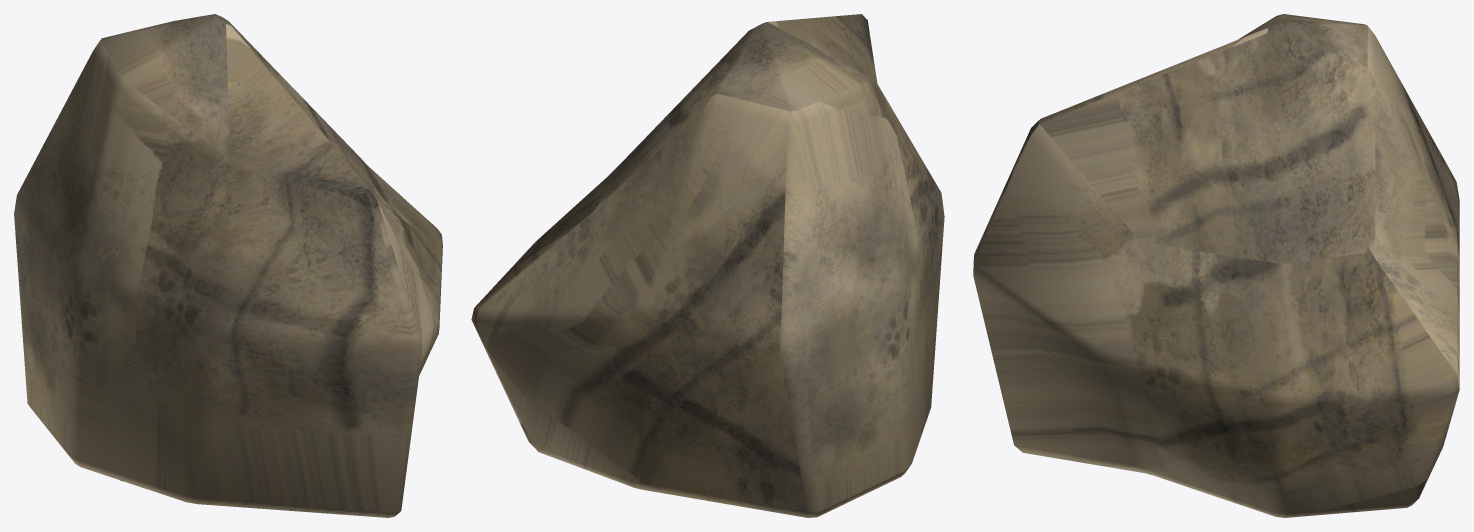
The model's file is SharpRock.gltf.
The picture shows the model from 3 angles, left to right: view 1: azimuth 30°, elevation 25°; view 2: azimuth 150°, elevation 25°; view 3: azimuth 270°, elevation 25°; orthographic projection. The views are drawn at different scales.
Visible parts, largest first — view 1: SharpRock; view 2: SharpRock; view 3: SharpRock.
Boxes of the visible parts, x1,y1,x2,y2 form: SharpRock: (14, 14, 442, 517); SharpRock: (471, 14, 944, 517); SharpRock: (973, 14, 1459, 517).
Bounding box in the file's own units: 3.93 × 4.22 × 4.56.
1 material, 1 textured.
